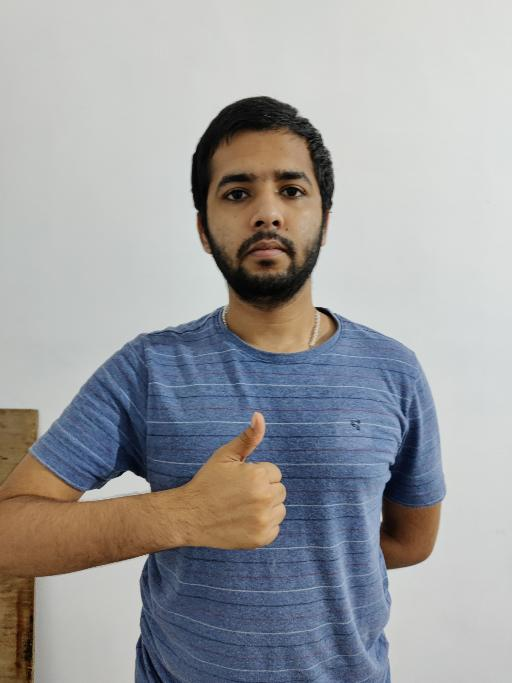like: (187, 408, 288, 552)
